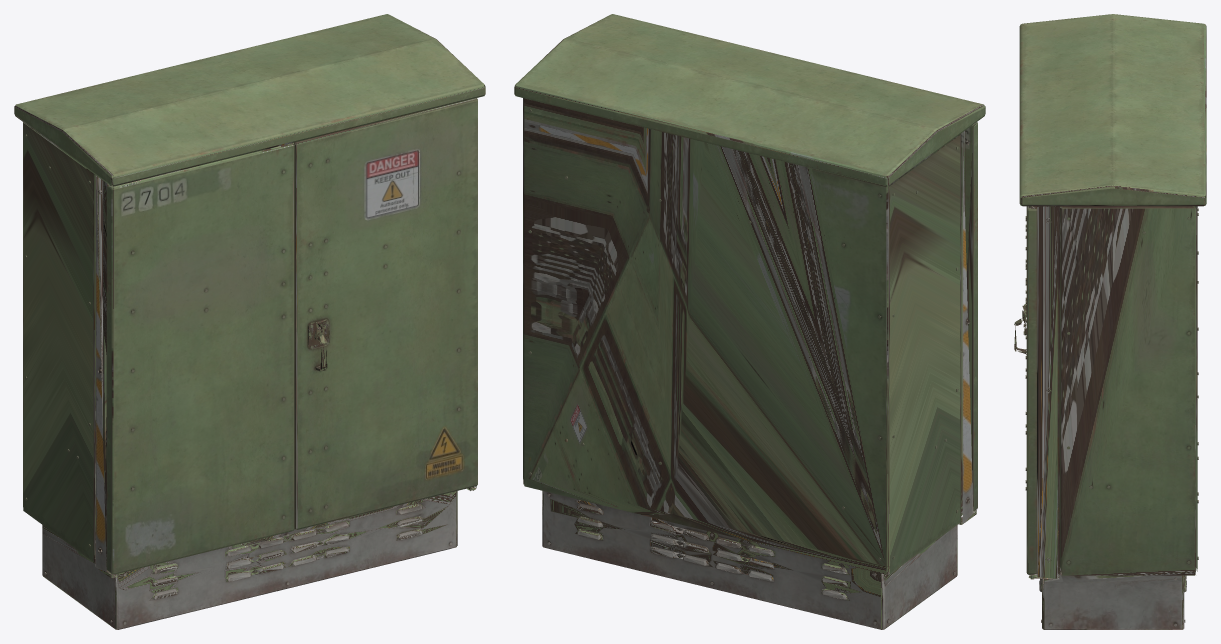
File: UtilityBoxSmall.obj
3 views of the same model, side by side, from view 1: azimuth 30°, elevation 25°; view 2: azimuth 150°, elevation 25°; view 3: azimuth 270°, elevation 25° (orthographic). The views are drawn at different scales.
Parts seen in each view (by area): view 1: part0; view 2: part0; view 3: part0.
Part boxes in pixels (box(x1,y1,x2,y2)): part0: box(14, 14, 485, 629); part0: box(514, 14, 985, 629); part0: box(1014, 14, 1206, 629).
Size of the model in its own units: 0.92 by 1.12 by 0.432.
1 material, 1 textured.
